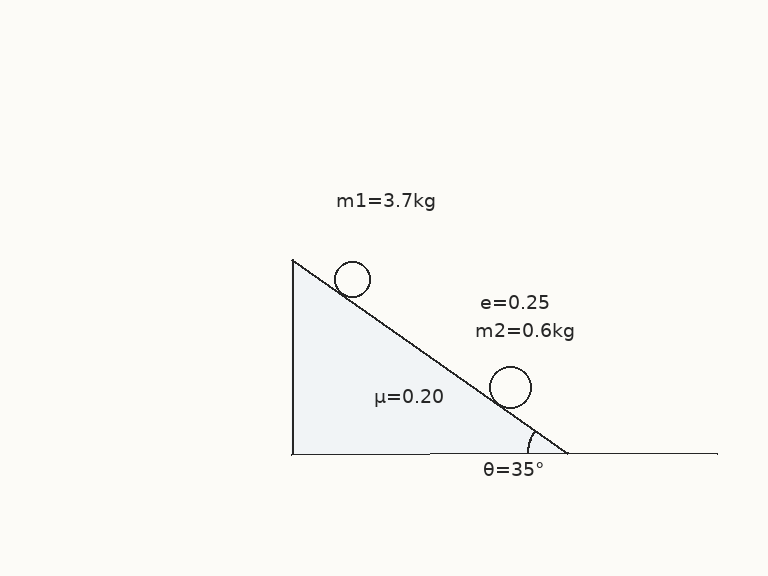ball: (487, 364, 533, 410), (332, 259, 372, 299)
ramp: (290, 258, 570, 455)
